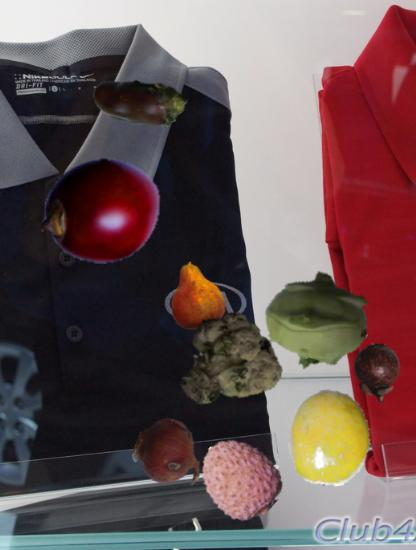Cauliflower: (174, 314, 277, 417)
Eggplant: (91, 54, 189, 152)
Kohlrabi: (264, 269, 370, 375)
Lychee: (196, 436, 282, 522)
Mangostan: (347, 344, 407, 404)
Maracuja: (281, 390, 378, 487)
Onion: (135, 417, 206, 488)
Pear: (160, 262, 231, 333)
Tamarillo: (41, 151, 161, 271)
